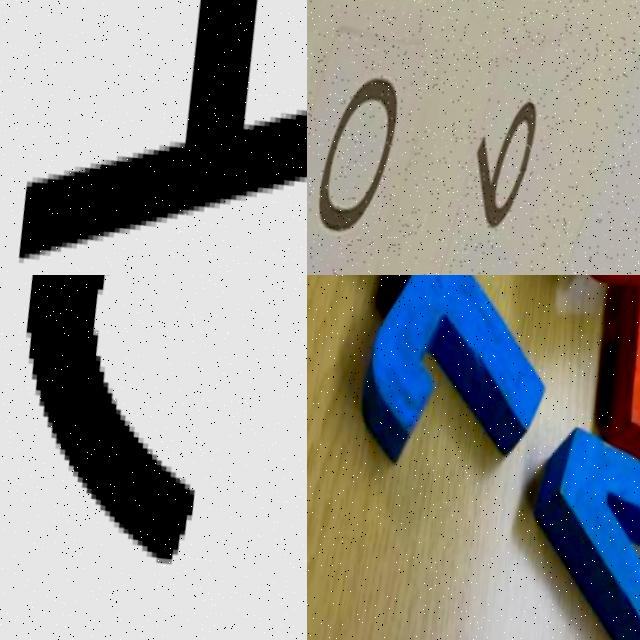0: (307, 37, 430, 275)
9: (422, 77, 560, 274), (597, 37, 640, 235)
A: (0, 0, 307, 275)
C: (13, 275, 184, 565)
V: (480, 405, 640, 640)
